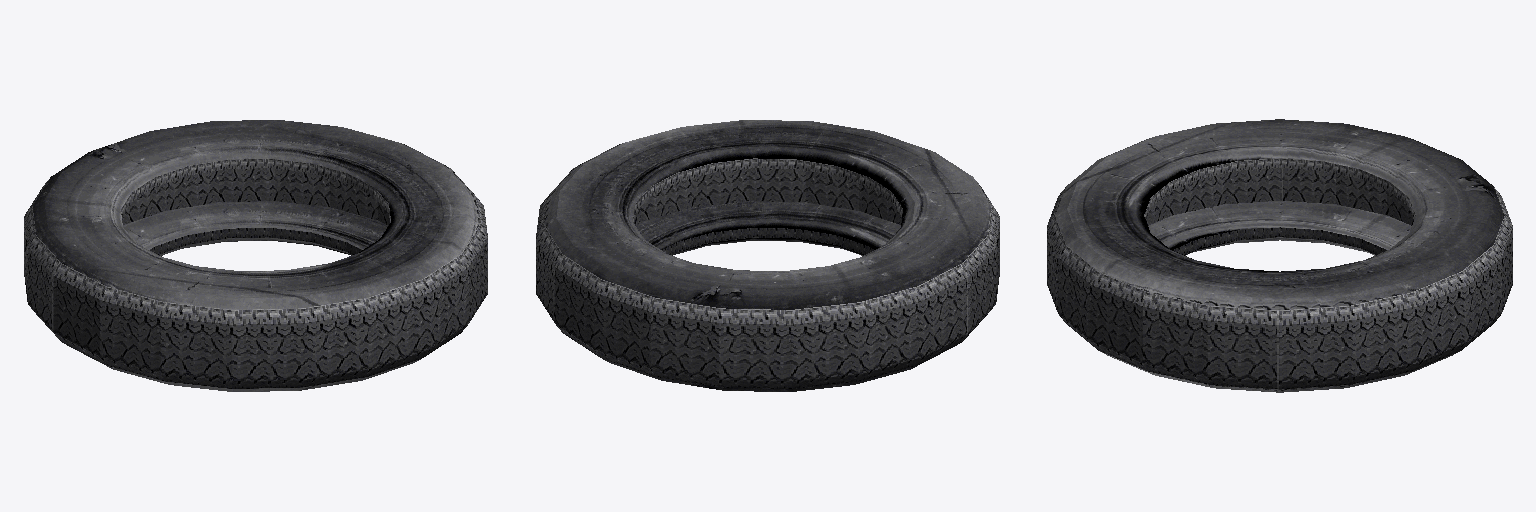
3 renders of one model, left to right at view 1: azimuth 30°, elevation 25°; view 2: azimuth 150°, elevation 25°; view 3: azimuth 270°, elevation 25°, orthographic.
Visible parts, largest first — view 1: tire.obj; view 2: tire.obj; view 3: tire.obj.
Part boxes in pixels (left/top/right/bottom): tire.obj: left=24, top=120, right=487, bottom=391; tire.obj: left=536, top=120, right=999, bottom=391; tire.obj: left=1047, top=119, right=1512, bottom=392.
Bounding box in the file's own units: 1.2 × 0.2662 × 1.2.
1 materials, 1 textured.